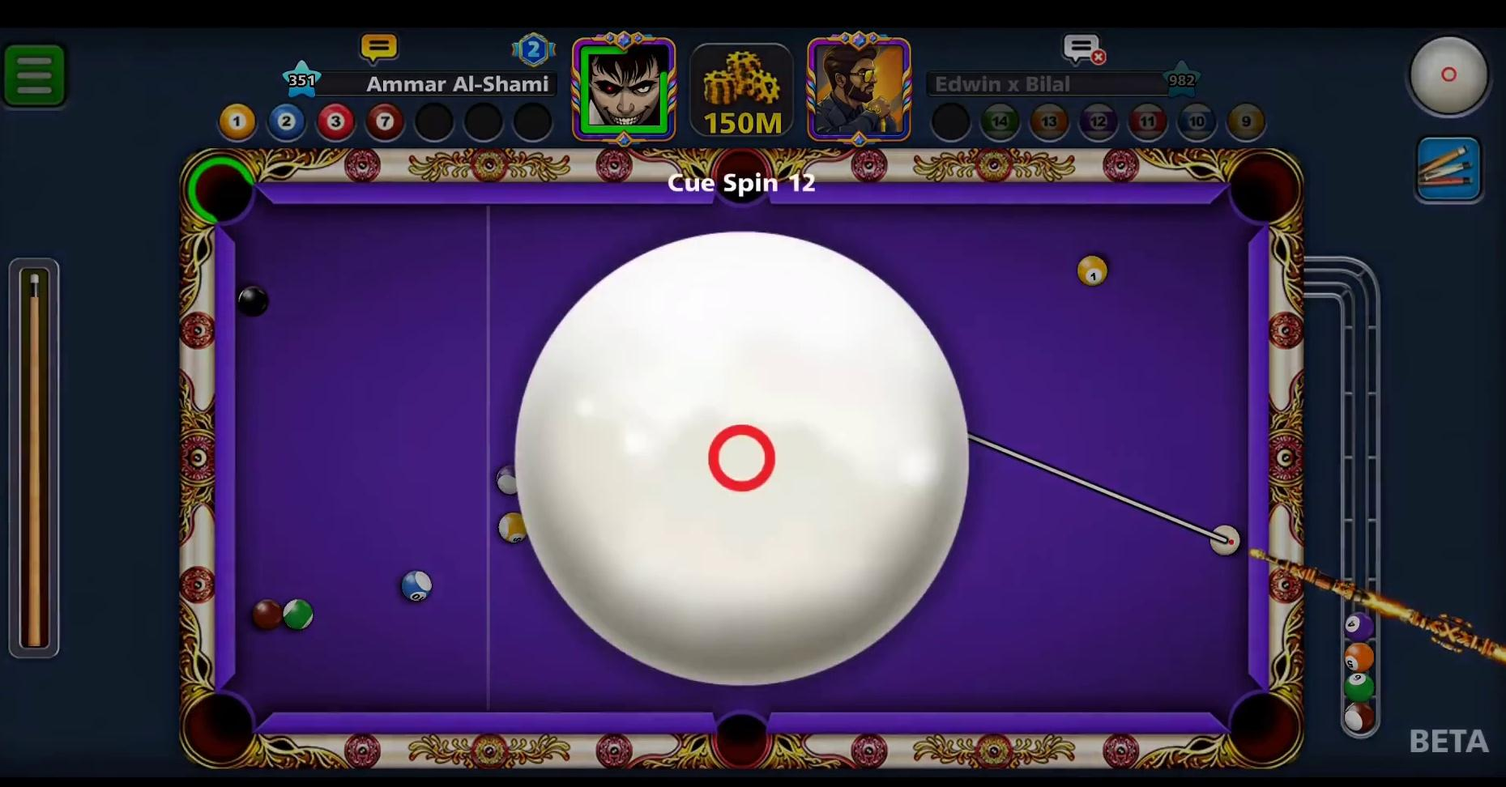Ball: (391, 560, 439, 612), (227, 281, 279, 321), (243, 590, 287, 636), (486, 459, 531, 502), (1069, 253, 1117, 291), (278, 590, 318, 635), (493, 506, 532, 545)
Force: (1, 261, 65, 658)
Guideline: (968, 434, 1239, 555)
Hole: (1210, 677, 1310, 775), (176, 140, 267, 236), (177, 683, 268, 775), (1220, 142, 1304, 235), (696, 696, 790, 776), (697, 139, 785, 217)
Play_Area: (235, 204, 1256, 718)
Spin: (497, 221, 988, 694), (1402, 28, 1504, 130)
White: (1203, 521, 1251, 561)
